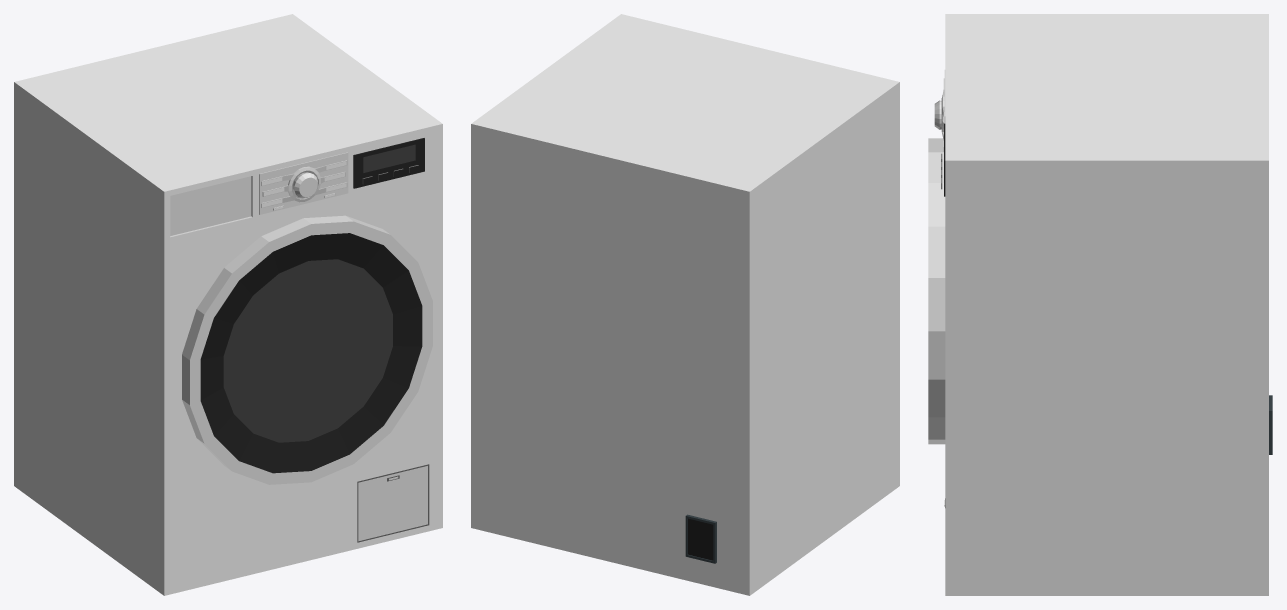
The model's file is Washer.glb.
3 views of the same model, side by side, from view 1: azimuth 30°, elevation 25°; view 2: azimuth 150°, elevation 25°; view 3: azimuth 270°, elevation 25° (orthographic). The views are drawn at different scales.
Visible parts, largest first — view 1: Washer, Washer-Door; view 2: Washer; view 3: Washer, Washer-Door.
Boxes of the visible parts, x1=… form: Washer: x1=14, y1=14, x2=442, y2=595; Washer-Door: x1=182, y1=215, x2=432, y2=484; Washer: x1=471, y1=14, x2=899, y2=595; Washer: x1=934, y1=14, x2=1272, y2=595; Washer-Door: x1=928, y1=138, x2=945, y2=444.
Size of the model in its own units: 0.7291 by 1.01 by 0.724.
Materials: 1 (1 with a texture image).
